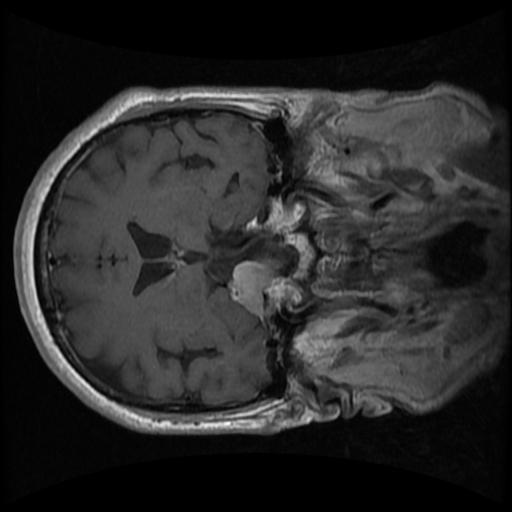meningioma: (226, 261, 277, 316)
